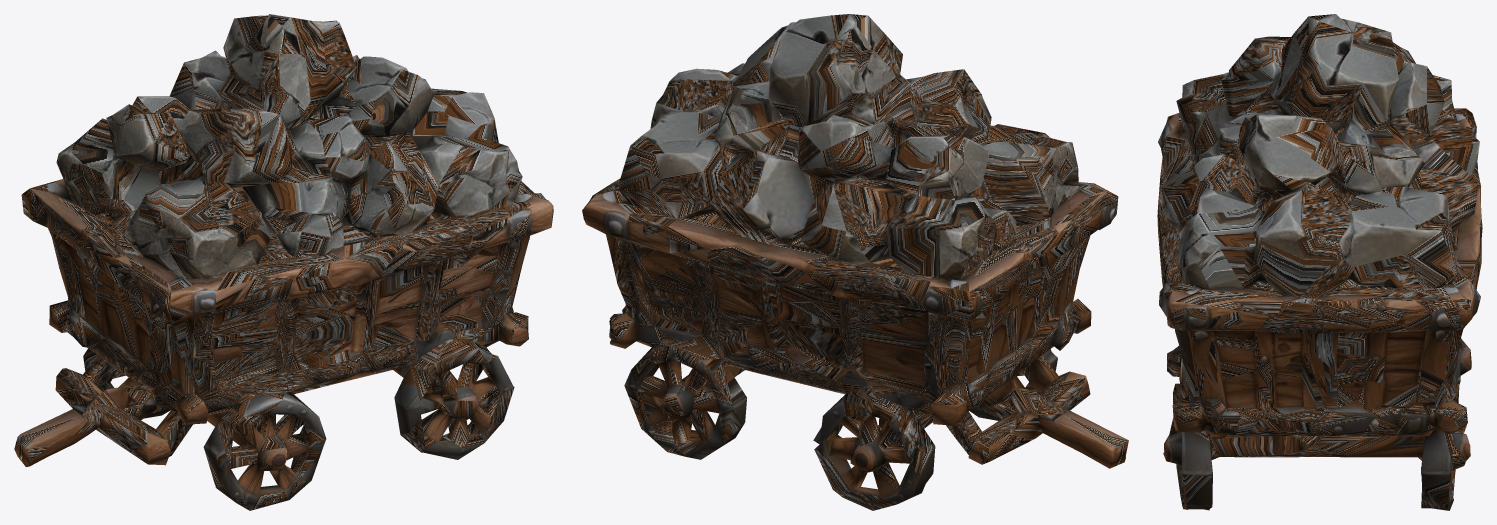
File: mining_cart_01.glb
The picture shows the model from 3 angles, left to right: view 1: azimuth 30°, elevation 25°; view 2: azimuth 150°, elevation 25°; view 3: azimuth 270°, elevation 25°; orthographic projection. The views are drawn at different scales.
Visible parts, largest first — view 1: tripo_node_dcc6090a-f189-40da-a4df-a841367ab8f4; view 2: tripo_node_dcc6090a-f189-40da-a4df-a841367ab8f4; view 3: tripo_node_dcc6090a-f189-40da-a4df-a841367ab8f4.
Part boxes in pixels (x1,y1,x2,y2): tripo_node_dcc6090a-f189-40da-a4df-a841367ab8f4: (14,14,553,510); tripo_node_dcc6090a-f189-40da-a4df-a841367ab8f4: (582,14,1128,510); tripo_node_dcc6090a-f189-40da-a4df-a841367ab8f4: (1157,14,1482,510).
Bounding box in the file's own units: 0.9774 × 0.8454 × 0.5685.
Materials: 1 (1 with a texture image).
